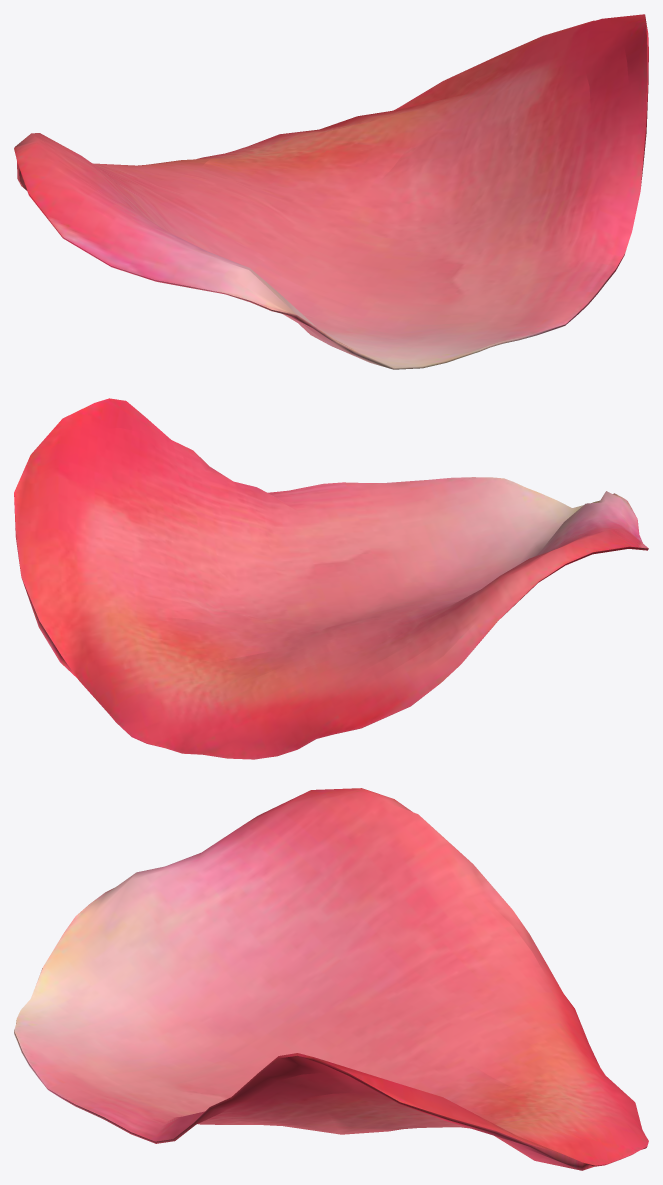
File: flower2.obj
The picture shows the model from 3 angles, top to bottom: view 1: azimuth 30°, elevation 25°; view 2: azimuth 150°, elevation 25°; view 3: azimuth 270°, elevation 25°; orthographic projection. The views are drawn at different scales.
Visible parts, largest first — view 1: 3d66-Editable_mesh-20557473-001.005; view 2: 3d66-Editable_mesh-20557473-001.005; view 3: 3d66-Editable_mesh-20557473-001.005.
Boxes of the visible parts, x1,y1,x2,y2 form: 3d66-Editable_mesh-20557473-001.005: [14, 14, 648, 369]; 3d66-Editable_mesh-20557473-001.005: [14, 398, 648, 759]; 3d66-Editable_mesh-20557473-001.005: [14, 788, 648, 1170].
Size of the model in its own units: 0.2811 by 0.0887 by 0.2546.
Materials: 1 (1 with a texture image).
